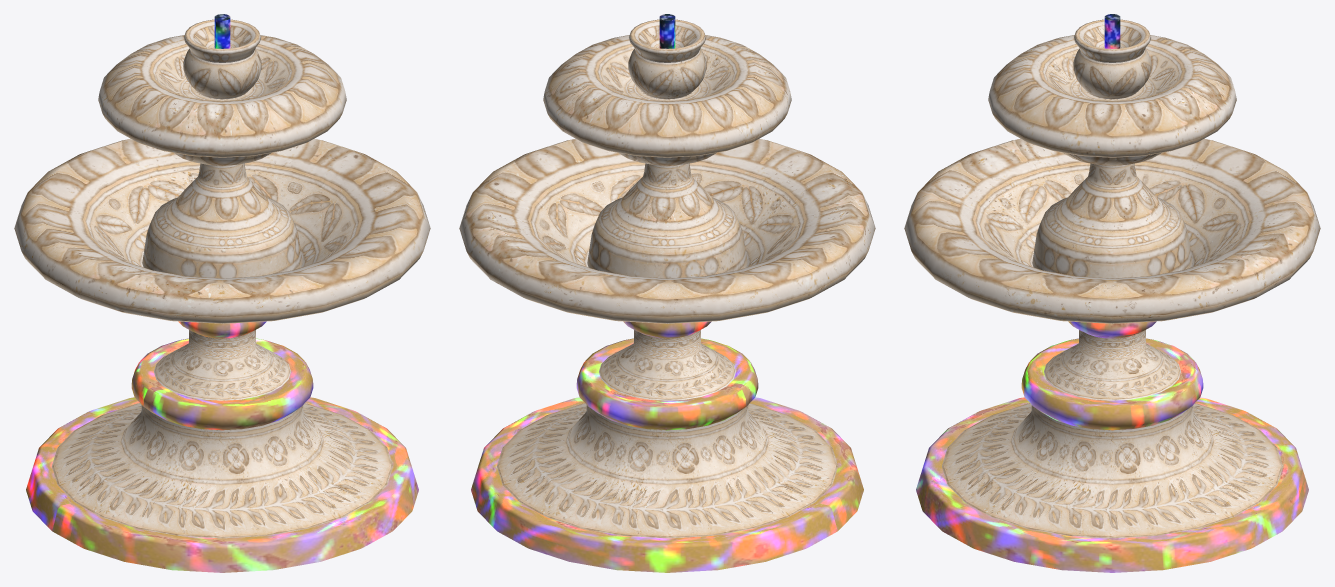
The model's file is fountain_SM.fbx.
The picture shows the model from 3 angles, left to right: view 1: azimuth 30°, elevation 25°; view 2: azimuth 150°, elevation 25°; view 3: azimuth 270°, elevation 25°; orthographic projection.
Visible parts, largest first — view 1: fountain_SM_LOD0; view 2: fountain_SM_LOD0; view 3: fountain_SM_LOD0.
Part boxes in pixels (x1,y1,x2,y2): fountain_SM_LOD0: [14, 14, 430, 572]; fountain_SM_LOD0: [459, 14, 875, 572]; fountain_SM_LOD0: [904, 14, 1320, 572].
Size of the model in its own units: 256 by 256 by 320.
3 materials, 3 textured.
